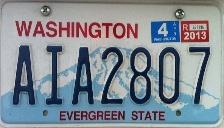0: (157, 45, 181, 105)
2: (99, 45, 128, 104)
7: (186, 45, 213, 107)
8: (128, 45, 154, 105)
A: (10, 44, 37, 107), (69, 45, 96, 106)
I: (43, 44, 67, 106)
